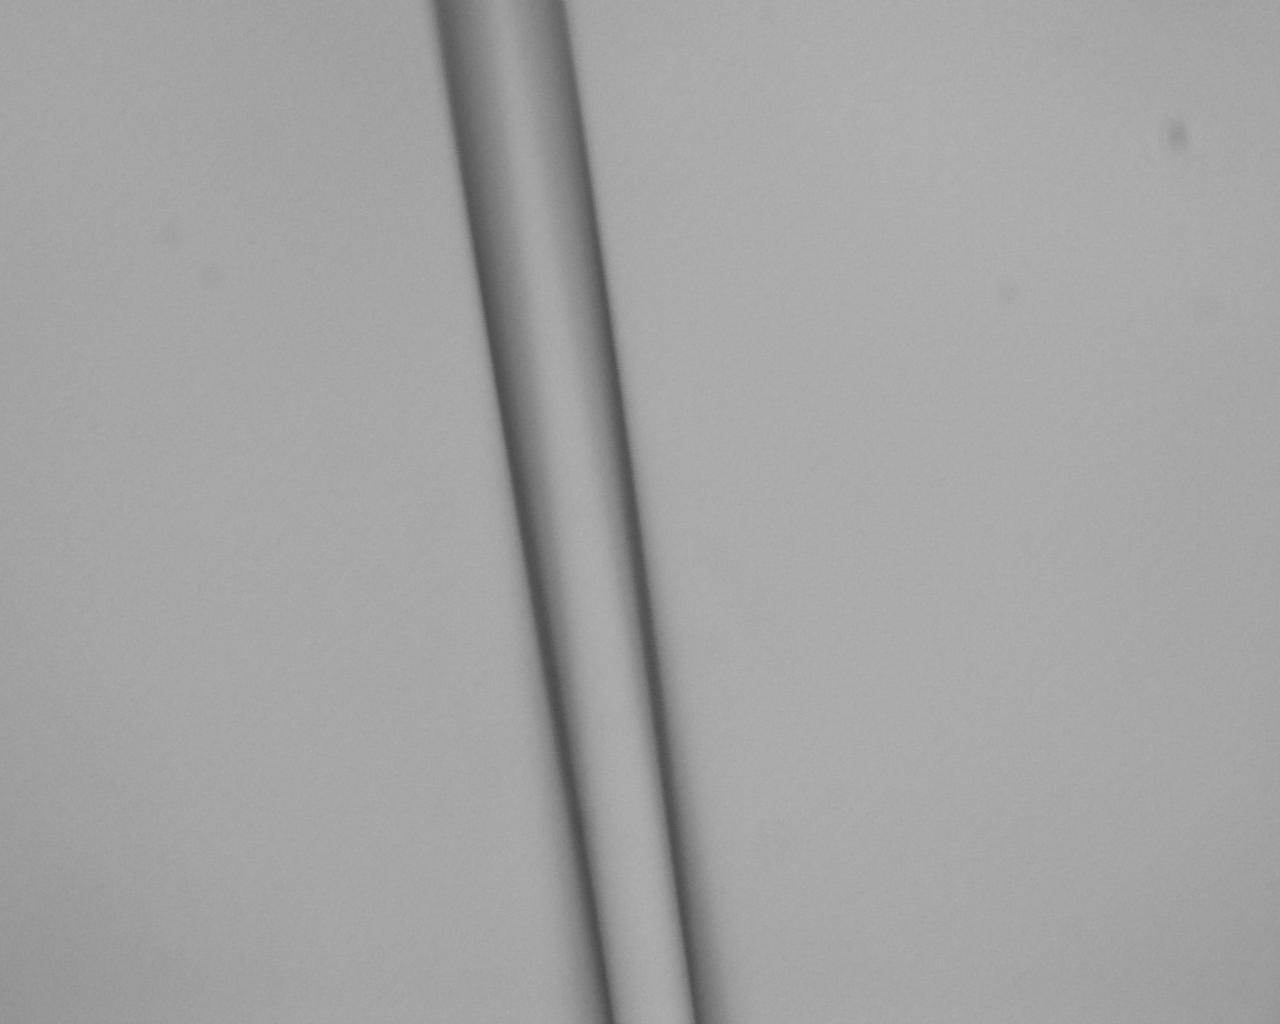fiber: (1021, 665, 1280, 1024), (1152, 0, 1280, 665), (9, 665, 216, 1024)
